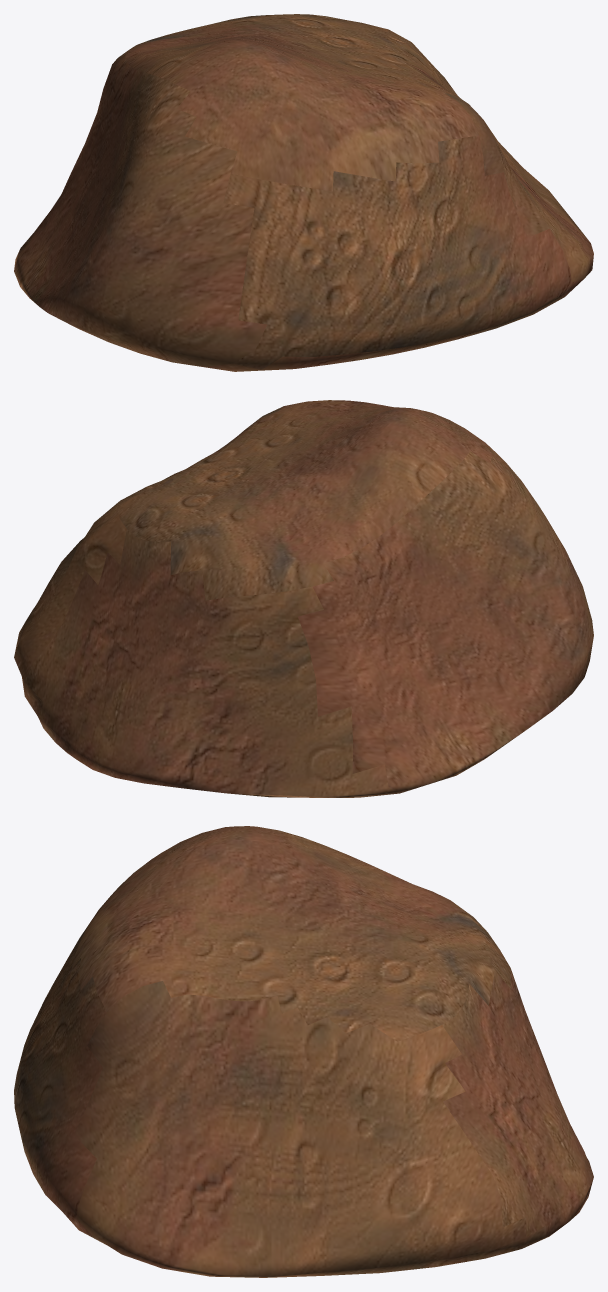
File: MarsRock13.obj
3 renders of one model, top to bottom at view 1: azimuth 30°, elevation 25°; view 2: azimuth 150°, elevation 25°; view 3: azimuth 270°, elevation 25°, orthographic. The views are drawn at different scales.
Visible parts, largest first — view 1: Rocks2; view 2: Rocks2; view 3: Rocks2.
Boxes of the visible parts, bbox=[...] form: Rocks2: bbox=[14, 14, 593, 371]; Rocks2: bbox=[14, 400, 593, 797]; Rocks2: bbox=[14, 826, 593, 1277].
Bounding box in the file's own units: 0.7659 × 0.4047 × 0.7087.
Materials: 1 (1 with a texture image).
